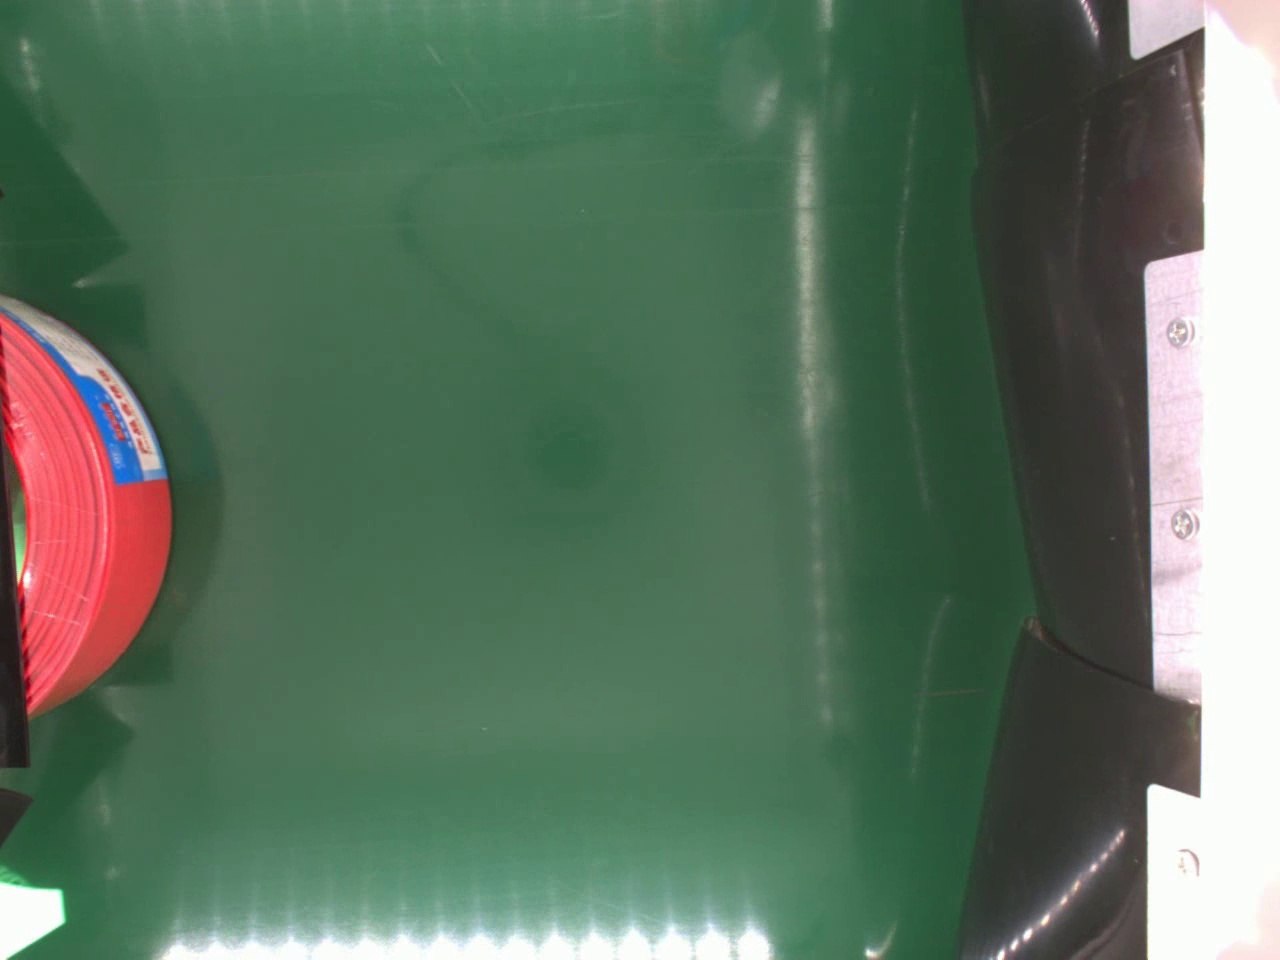red: (0, 296, 178, 717)
